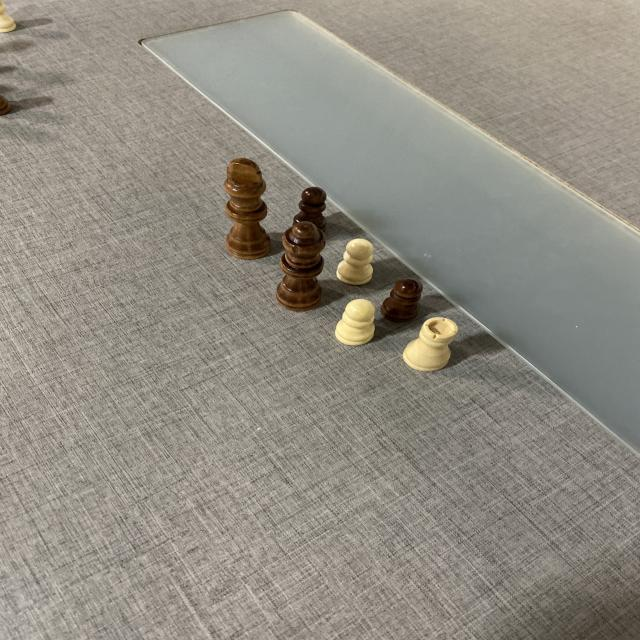Black-King: (222, 157, 272, 261)
Black-Pawn: (382, 278, 424, 325), (292, 186, 330, 232)
Black-Queen: (274, 220, 328, 312)
White-Pawn: (335, 298, 377, 346), (336, 238, 375, 286)
White-Rook: (402, 316, 460, 372)
